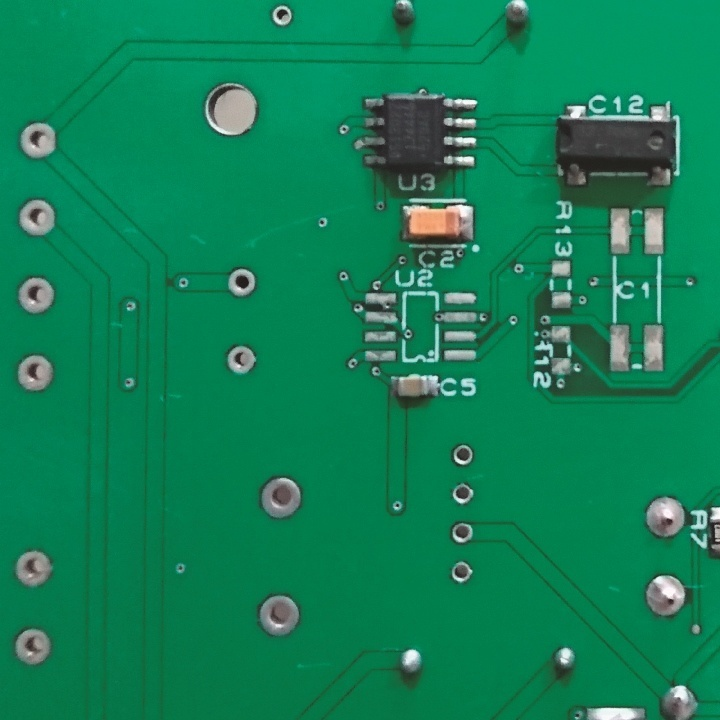F: (644, 570, 690, 622), (641, 493, 690, 539), (257, 474, 304, 520), (256, 591, 301, 637), (14, 198, 58, 240), (11, 547, 55, 589), (16, 274, 56, 318), (17, 121, 60, 160), (13, 626, 53, 667), (19, 355, 56, 396), (225, 266, 258, 303), (225, 343, 259, 378), (450, 560, 477, 586), (268, 4, 296, 29), (450, 479, 475, 506), (452, 441, 475, 469), (450, 520, 474, 545)
